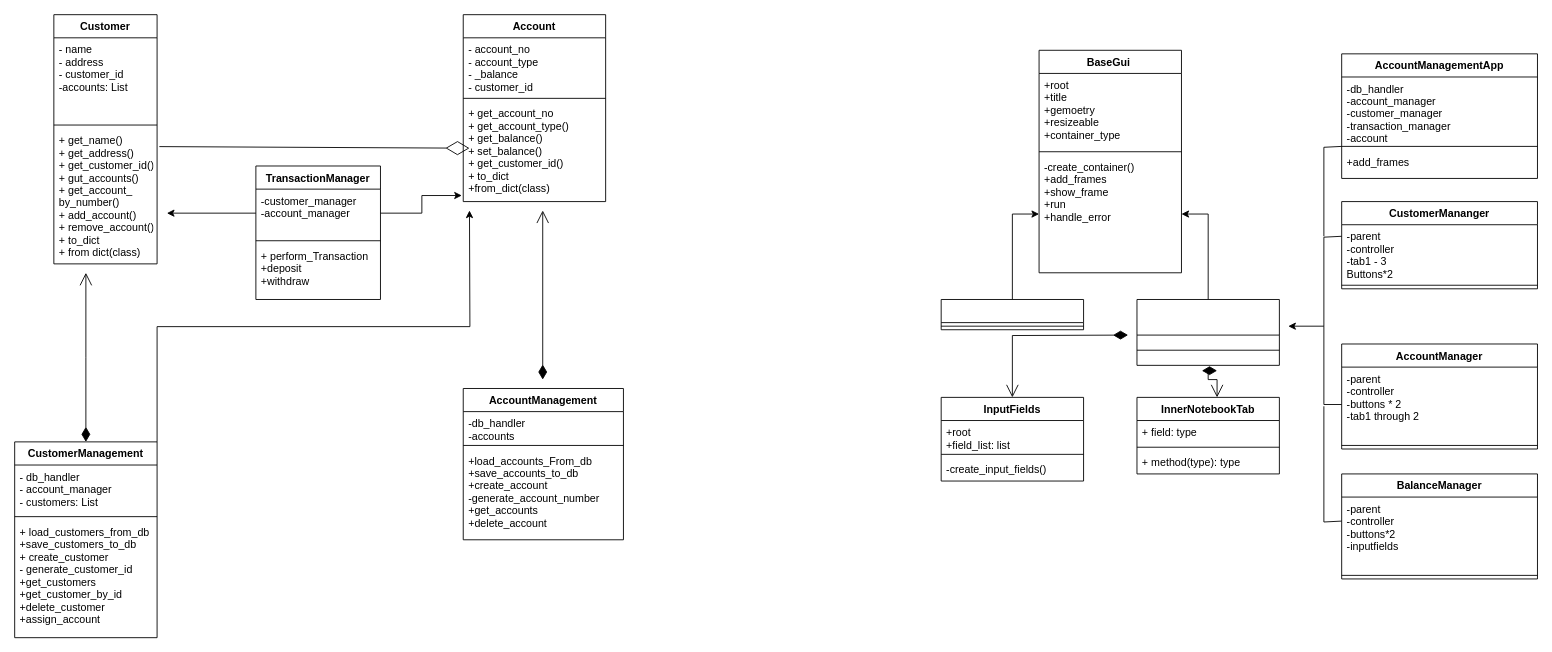
Some shapes in this 1552 by 652 pixel diagram are drawn without their labels. Here are the shapes that lost their labels. From the top down, the centre of each, then its label:
At point 1012,314: "FrameBasedGui".
At point 1207,332: "NoteBook BasedGui".
